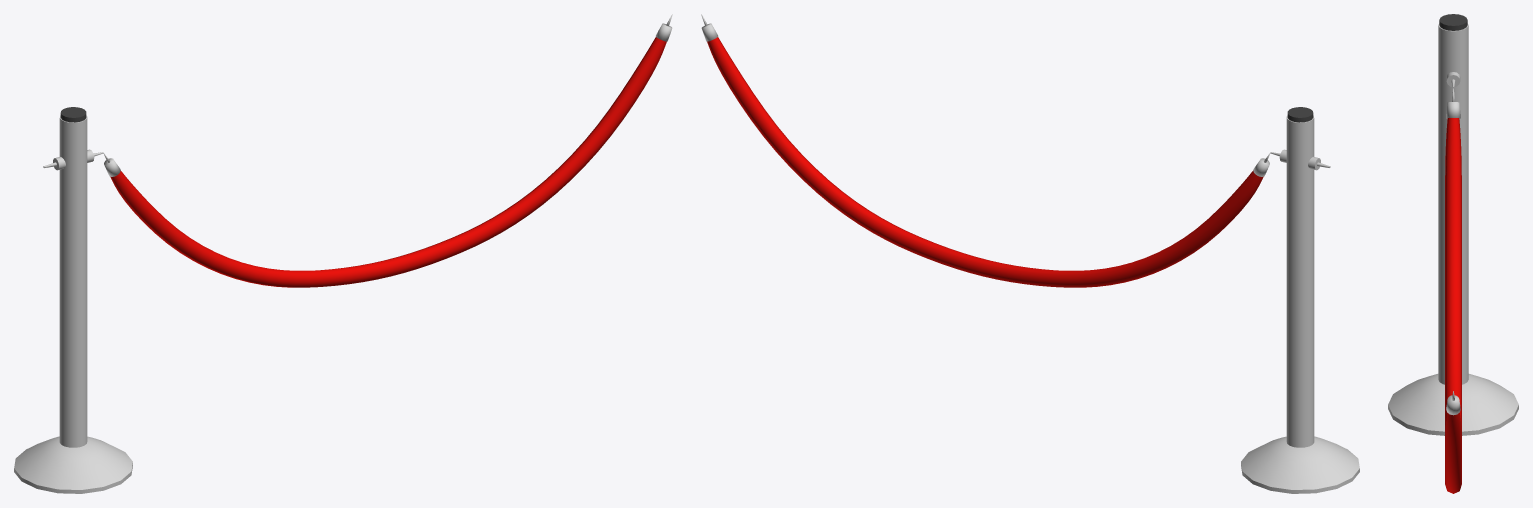
The model's file is guardrail.fbx.
The picture shows the model from 3 angles, left to right: view 1: azimuth 30°, elevation 25°; view 2: azimuth 150°, elevation 25°; view 3: azimuth 270°, elevation 25°; orthographic projection. The views are drawn at different scales.
Visible parts, largest first — view 1: guardrail, rope; view 2: guardrail, rope; view 3: guardrail, rope.
Boxes of the visible parts, bbox=[...] form: guardrail: bbox=[14, 107, 132, 493]; rope: bbox=[103, 14, 672, 287]; guardrail: bbox=[1241, 107, 1359, 493]; rope: bbox=[701, 14, 1270, 287]; guardrail: bbox=[1388, 14, 1518, 435]; rope: bbox=[1445, 88, 1461, 493].
Size of the model in its own units: 1.94 by 1.01 by 0.309.
